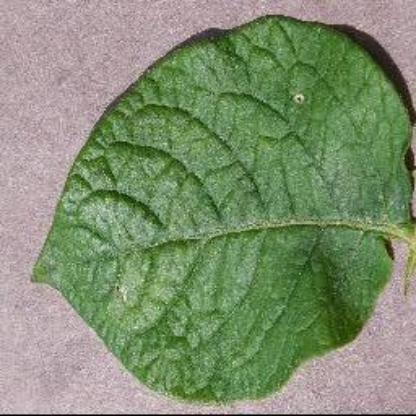Healthy-plant: (28, 11, 414, 406)
